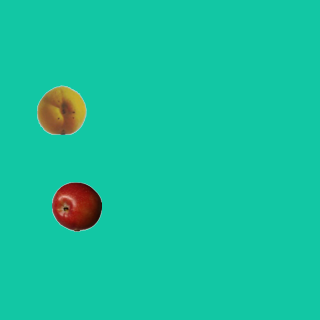Apple Braeburn: (51, 181, 101, 231)
Peach 2: (36, 84, 86, 134)
